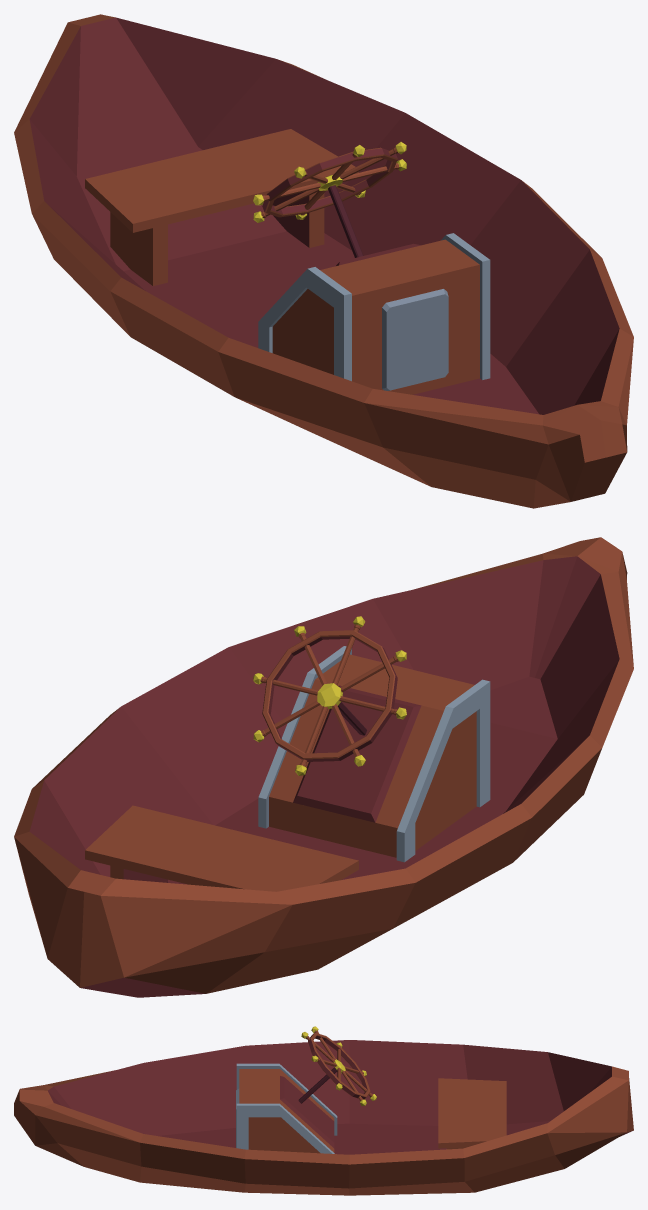
Rendered from Boat.fbx.
3 views of the same model, one above another, from view 1: azimuth 30°, elevation 25°; view 2: azimuth 150°, elevation 25°; view 3: azimuth 270°, elevation 25° (orthographic). The views are drawn at different scales.
Visible parts, largest first — view 1: Cube.002, Circle; view 2: Cube.002, Circle; view 3: Cube.002, Circle.
Boxes of the visible parts, x1=… form: Cube.002: x1=14, y1=14, x2=633, y2=508; Circle: x1=253, y1=142, x2=406, y2=257; Cube.002: x1=14, y1=537, x2=633, y2=997; Circle: x1=253, y1=616, x2=406, y2=775; Cube.002: x1=14, y1=1040, x2=633, y2=1195; Circle: x1=298, y1=1026, x2=376, y2=1105.
Size of the model in its own units: 2.2 by 1.21 by 4.75.
Materials: 1 (1 with a texture image).
